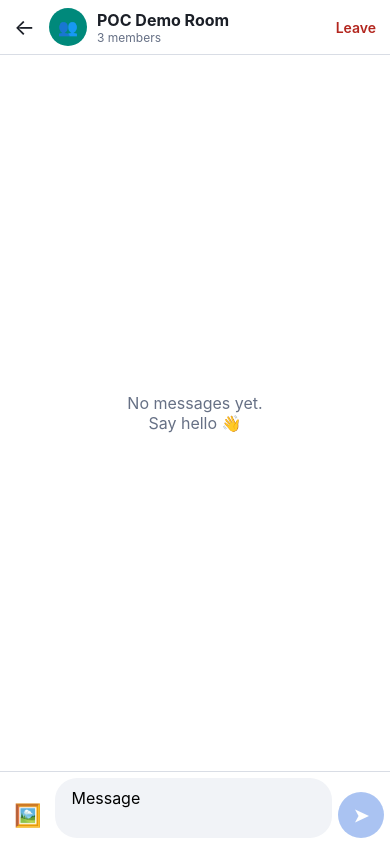
Test case: a failed send offers a retry
Type "Are you there?" into the text box with placeholder "Message".
click(194, 808); type("Are you there?")  # box [56, 778, 332, 838]
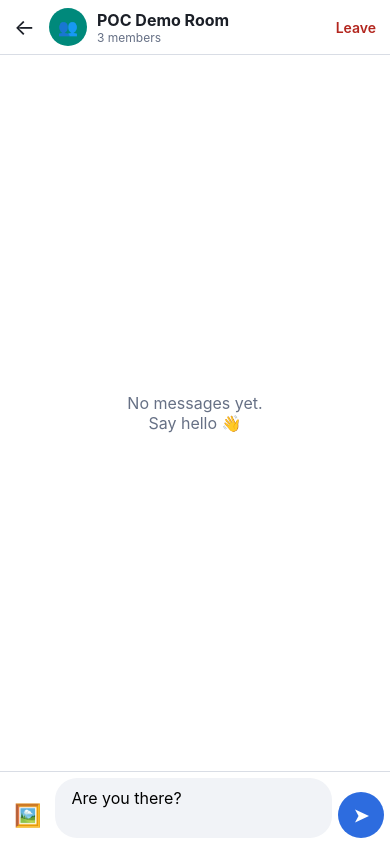
Click the element named "Send".
click(361, 815)  # box [338, 792, 384, 838]
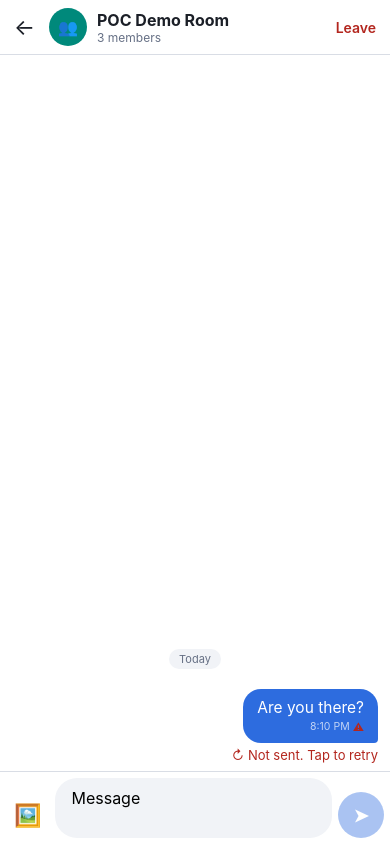
Click the text "↻ Not sent. Tap to retry".
click(305, 755)  # box [232, 747, 378, 763]
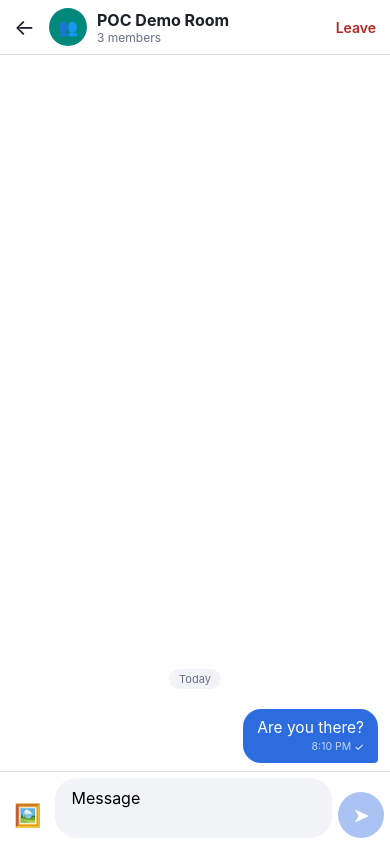
Check: the text "Not sent" is gone
